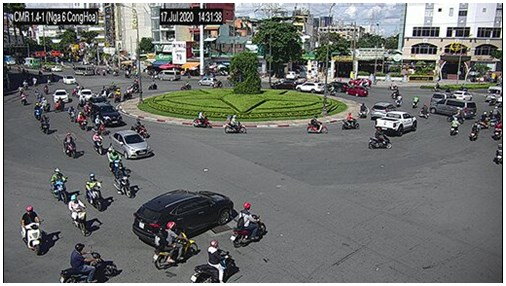xe_ban_tai: (377, 111, 417, 134)
xe_hoi: (134, 190, 232, 243), (110, 130, 154, 159), (91, 103, 121, 127), (295, 81, 326, 93), (370, 102, 392, 117), (270, 80, 298, 89), (53, 88, 69, 103), (346, 86, 366, 97), (329, 82, 347, 93), (453, 91, 472, 101), (80, 89, 93, 101), (63, 75, 76, 85)
xe_khach: (429, 98, 476, 118), (159, 70, 181, 81), (73, 66, 94, 75)
xe_may: (59, 243, 119, 283), (153, 221, 198, 270), (191, 239, 239, 283), (230, 202, 267, 248), (20, 206, 44, 256), (70, 194, 88, 237), (50, 166, 69, 205), (86, 173, 103, 212), (107, 146, 125, 181), (115, 166, 132, 199), (368, 127, 391, 150), (223, 115, 246, 135), (306, 114, 328, 134), (64, 133, 77, 159), (193, 110, 211, 128), (342, 114, 360, 131), (92, 131, 104, 156), (134, 120, 148, 140), (93, 114, 104, 135), (449, 116, 459, 138), (40, 115, 50, 136), (78, 110, 87, 130), (478, 111, 488, 129), (54, 97, 65, 113), (469, 120, 477, 142), (495, 142, 503, 164), (490, 105, 500, 122), (419, 104, 430, 119), (34, 102, 43, 120), (123, 86, 133, 101), (19, 89, 27, 106), (394, 93, 403, 108), (495, 119, 502, 138), (68, 105, 76, 121), (180, 80, 191, 91), (389, 79, 399, 91), (412, 95, 420, 109), (210, 79, 222, 88), (114, 89, 121, 104), (360, 103, 366, 120), (133, 76, 139, 92), (149, 79, 157, 90), (432, 82, 441, 91), (328, 85, 336, 95), (43, 85, 49, 96)
